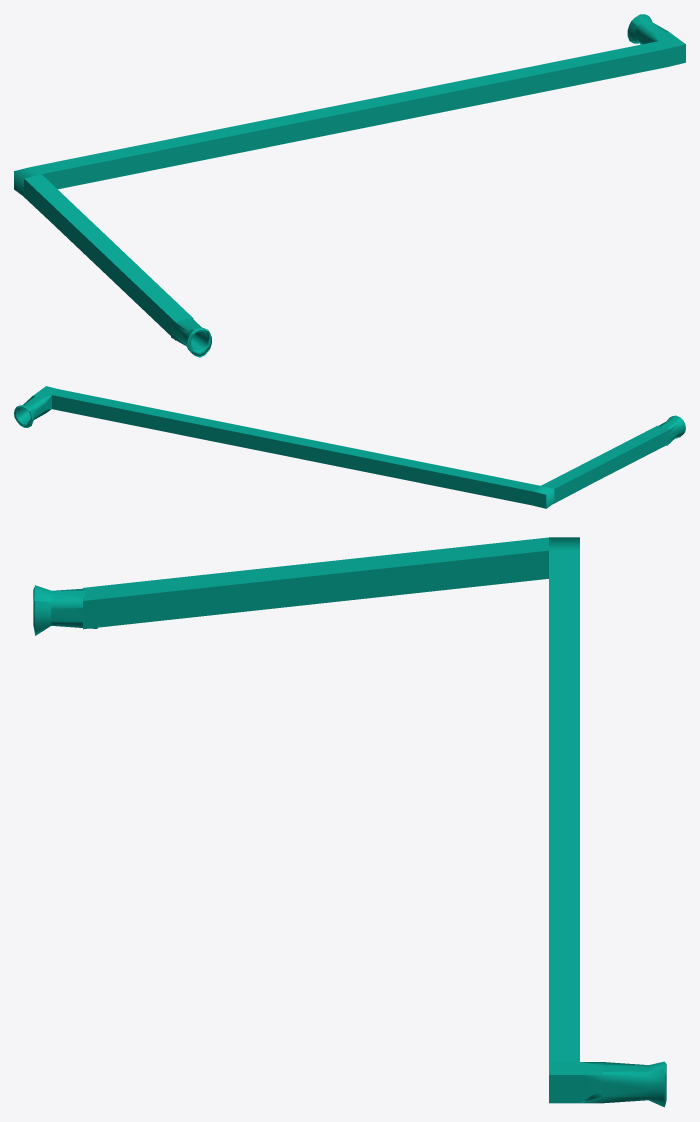
Rendered from SM_Vent_1.2.fbx.
The picture shows the model from 3 angles, top to bottom: view 1: azimuth 30°, elevation 25°; view 2: azimuth 150°, elevation 25°; view 3: azimuth 270°, elevation 25°; orthographic projection. The views are drawn at different scales.
Parts seen in each view (by area): view 1: SM_VentBathrooms_1_2; view 2: SM_VentBathrooms_1_2; view 3: SM_VentBathrooms_1_2.
Boxes of the visible parts, box(x1,y1,x2,y2) form: SM_VentBathrooms_1_2: box(14, 14, 685, 357); SM_VentBathrooms_1_2: box(14, 386, 685, 508); SM_VentBathrooms_1_2: box(33, 537, 666, 1107).
Size of the model in its own units: 3118 by 261 by 1661.
